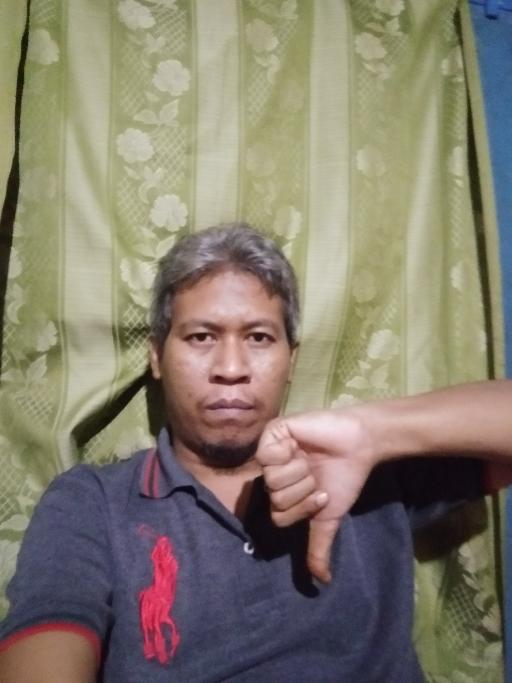dislike: (252, 404, 376, 585)
